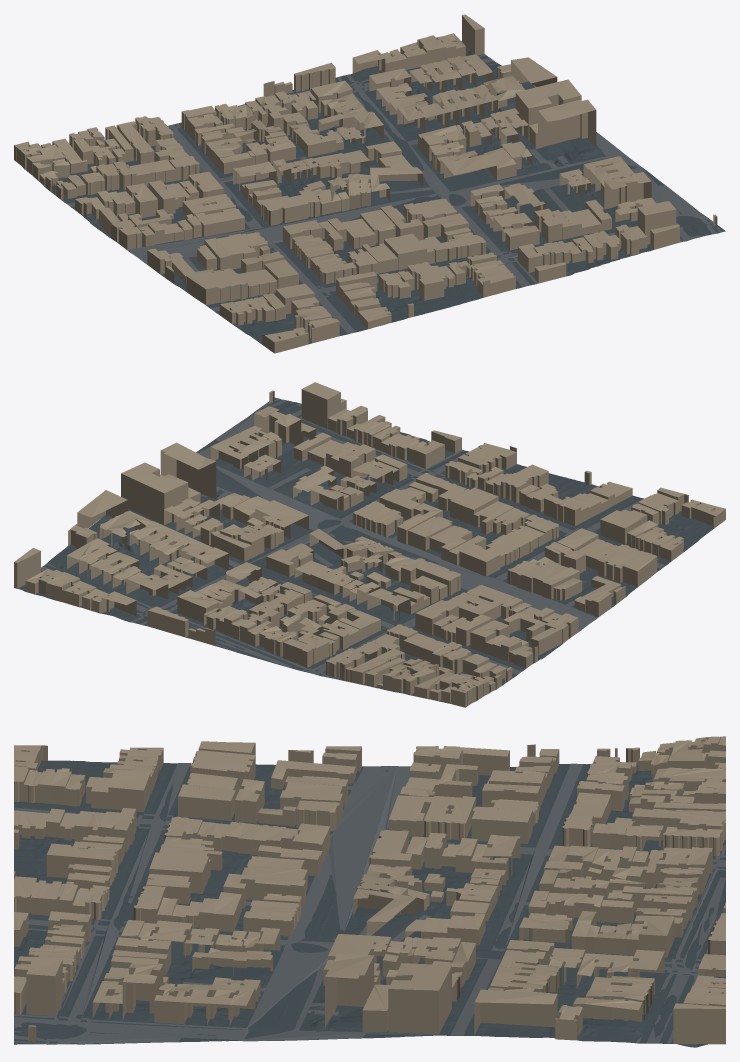
File: epsg26910-1433-10895.lod0.glb
3 views of the same model, one above another, from view 1: azimuth 30°, elevation 25°; view 2: azimuth 150°, elevation 25°; view 3: azimuth 270°, elevation 25° (orthographic). The views are drawn at different scales.
Visible parts, largest first — view 1: epsg26910-1433-10895-lod0; view 2: epsg26910-1433-10895-lod0; view 3: epsg26910-1433-10895-lod0.
Boxes of the visible parts, x1=… form: epsg26910-1433-10895-lod0: x1=14, y1=14, x2=725, y2=353; epsg26910-1433-10895-lod0: x1=14, y1=382, x2=725, y2=707; epsg26910-1433-10895-lod0: x1=14, y1=736, x2=725, y2=1047.
Bounding box in the file's own units: 384 × 48.34 × 384.
